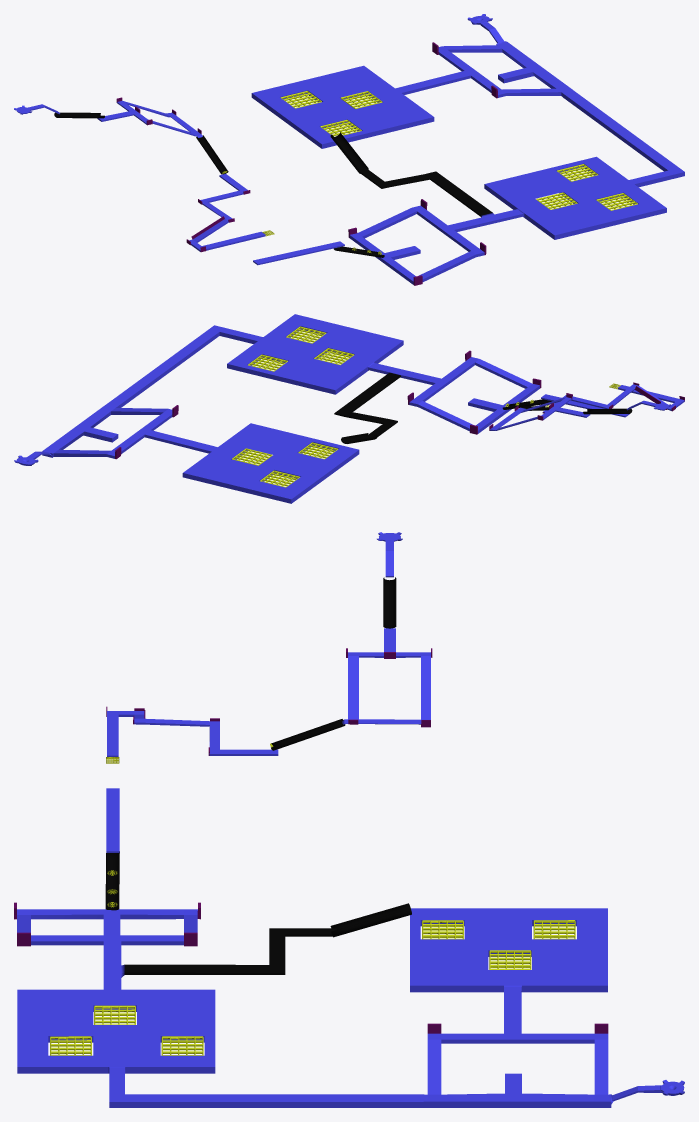
File: trace_water2.FBX
3 views of the same model, one above another, from view 1: azimuth 30°, elevation 25°; view 2: azimuth 150°, elevation 25°; view 3: azimuth 270°, elevation 25° (orthographic). The views are drawn at different scales.
Parts seen in each view (by area): view 1: Trace_water, Circle001; view 2: Trace_water, Circle001; view 3: Trace_water, Circle001.
Boxes of the visible parts, left/top/right/bottom form: Trace_water: left=14, top=14, right=684, bottom=285; Circle001: left=222, top=91, right=637, bottom=254; Trace_water: left=14, top=314, right=684, bottom=503; Circle001: left=232, top=326, right=620, bottom=487; Trace_water: left=14, top=532, right=684, bottom=1107; Circle001: left=50, top=743, right=575, bottom=1055.
Size of the model in its own units: 34911 by 8239 by 25065.
